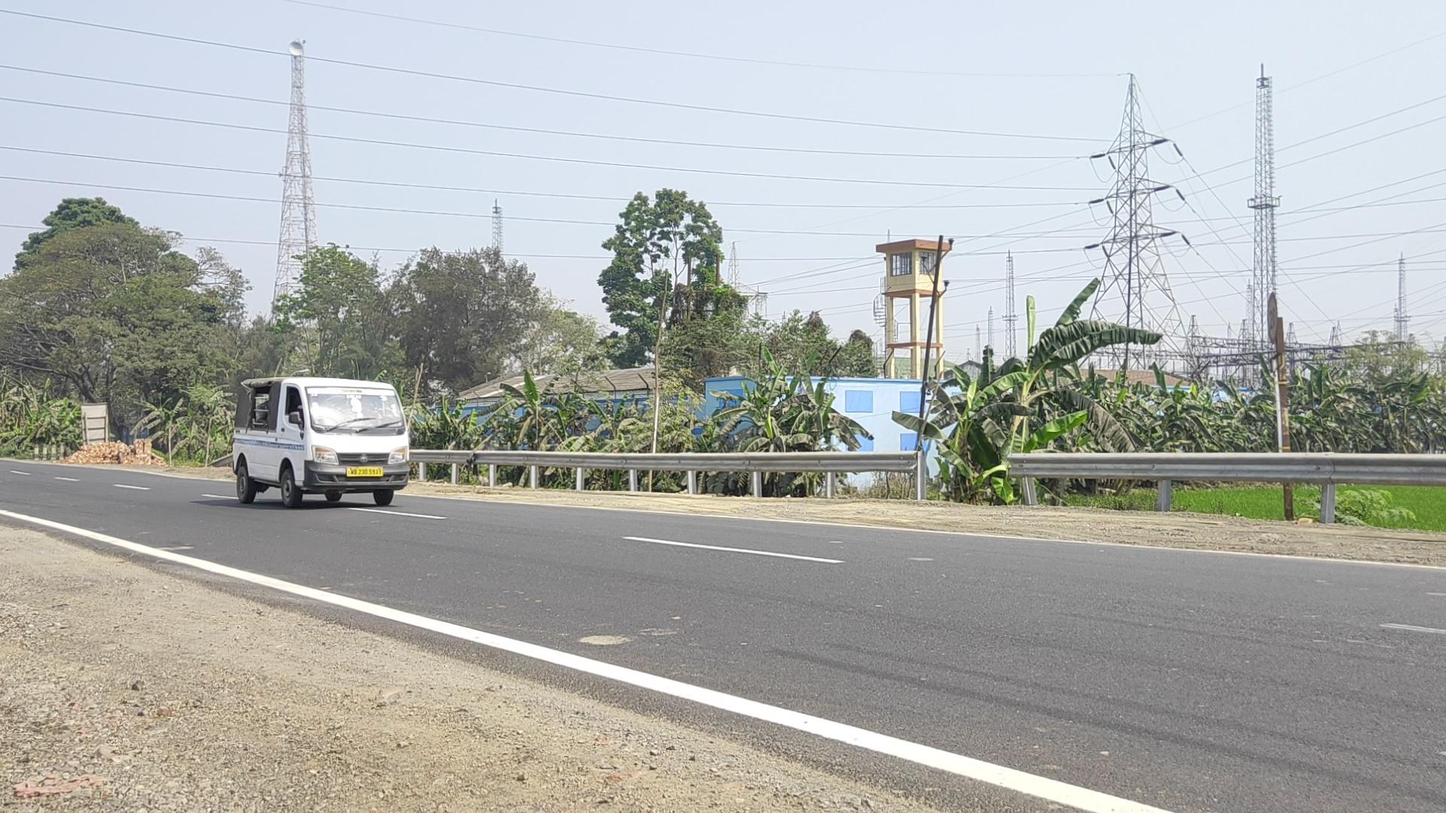van: (232, 376, 410, 509)
